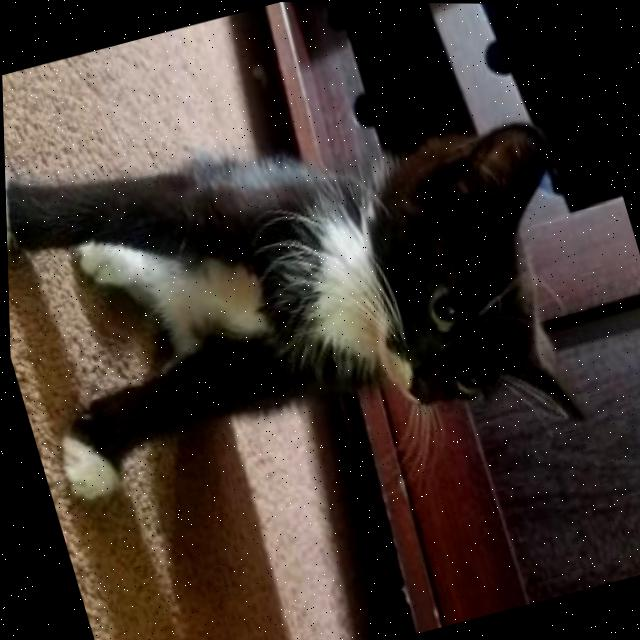Tuxedo: (1, 29, 633, 567)
